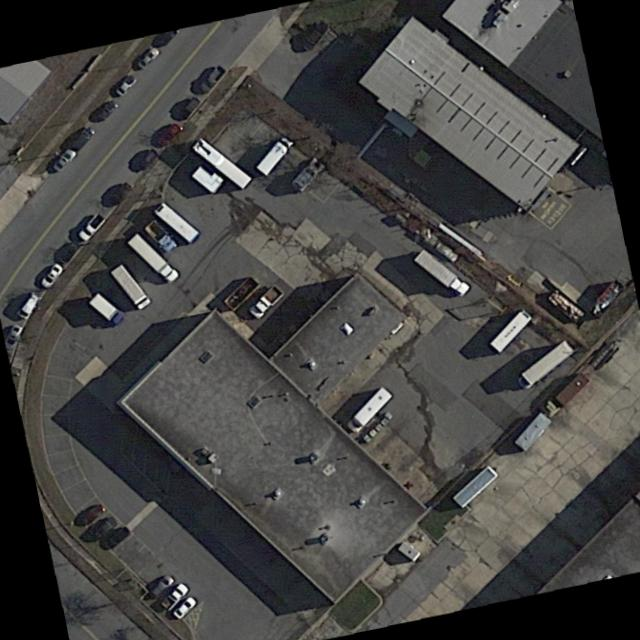large-vehicle: (515, 338, 576, 392), (409, 248, 472, 298), (192, 138, 251, 190), (123, 233, 180, 286), (345, 386, 392, 436), (108, 261, 152, 313), (152, 201, 200, 246), (487, 309, 533, 355), (255, 135, 295, 178), (87, 293, 126, 328)
small-vehicle: (246, 283, 285, 320), (78, 514, 119, 549), (142, 219, 180, 255), (70, 500, 108, 533), (157, 580, 190, 614), (95, 525, 131, 555), (74, 212, 106, 244), (13, 290, 42, 323), (88, 99, 118, 129), (197, 64, 226, 95), (148, 572, 176, 600), (133, 45, 161, 72), (69, 126, 96, 153), (38, 262, 64, 290), (51, 146, 77, 174), (171, 596, 198, 621), (174, 97, 201, 122), (108, 181, 133, 206), (134, 148, 159, 173), (156, 123, 181, 148), (57, 239, 81, 265), (114, 72, 137, 99)
